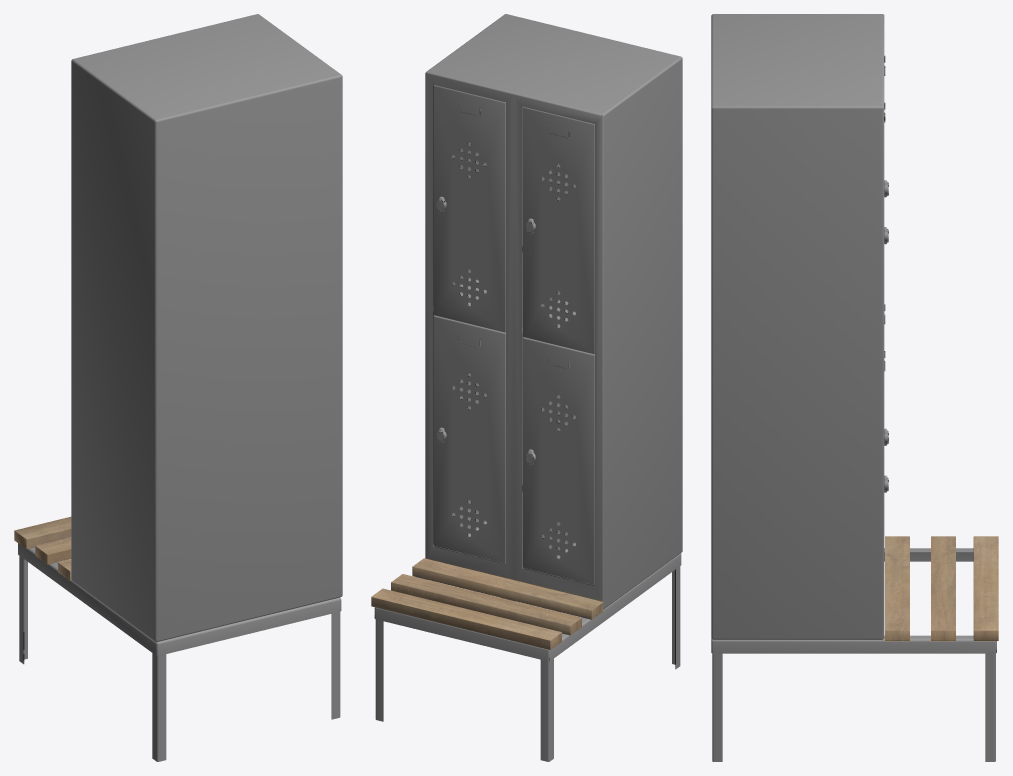
Rendered from storage_locker_double_bench_b01.glb.
The picture shows the model from 3 angles, left to right: view 1: azimuth 30°, elevation 25°; view 2: azimuth 150°, elevation 25°; view 3: azimuth 270°, elevation 25°; orthographic projection. The views are drawn at different scales.
Visible parts, largest first — view 1: storage_locker_double_bench_b01_lod1; view 2: storage_locker_double_bench_b01_lod1; view 3: storage_locker_double_bench_b01_lod1.
Part boxes in pixels (bbox=[...]): storage_locker_double_bench_b01_lod1: bbox=[14, 14, 342, 761]; storage_locker_double_bench_b01_lod1: bbox=[371, 14, 682, 761]; storage_locker_double_bench_b01_lod1: bbox=[711, 14, 998, 761].
Size of the model in its own units: 0.6441 by 2.09 by 0.8303.
1 material, 1 textured.
